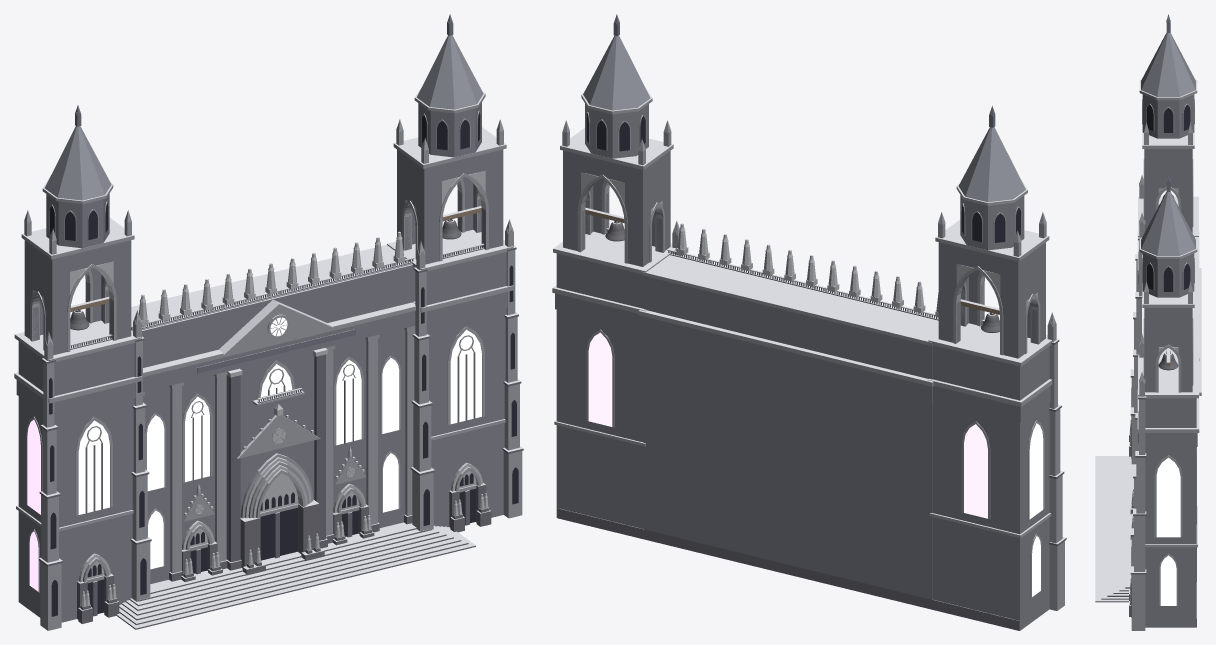
The model's file is AR_Basilica_Fachada.fbx.
The picture shows the model from 3 angles, left to right: view 1: azimuth 30°, elevation 25°; view 2: azimuth 150°, elevation 25°; view 3: azimuth 270°, elevation 25°; orthographic projection. The views are drawn at different scales.
Visible parts, largest first — view 1: AR_Basilica_Fachada; view 2: AR_Basilica_Fachada; view 3: AR_Basilica_Fachada.
Part boxes in pixels (x1,y1,x2,y2): AR_Basilica_Fachada: (14,14,523,630); AR_Basilica_Fachada: (552,14,1066,630); AR_Basilica_Fachada: (1095,14,1201,630).
Size of the model in its own units: 120 by 120 by 26.6.
